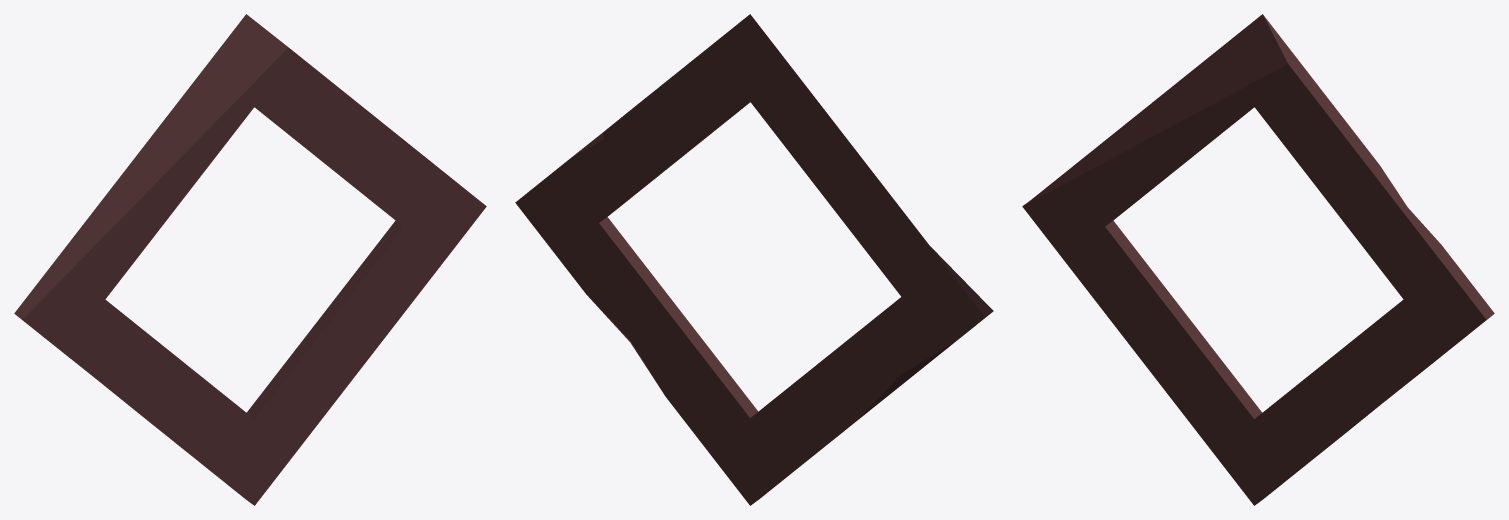
Rendered from SM_Env_Misc_04.fbx.
3 renders of one model, left to right at view 1: azimuth 30°, elevation 25°; view 2: azimuth 150°, elevation 25°; view 3: azimuth 330°, elevation 25°, orthographic.
Parts seen in each view (by area): view 1: SM_Env_Misc_04; view 2: SM_Env_Misc_04; view 3: SM_Env_Misc_04.
Boxes of the visible parts, box(x1,y1,x2,y2) form: SM_Env_Misc_04: box(14, 14, 486, 505); SM_Env_Misc_04: box(515, 14, 993, 505); SM_Env_Misc_04: box(1022, 14, 1494, 505).
Size of the model in its own units: 67.99 by 67.99 by 2.13.
1 material, 1 textured.
